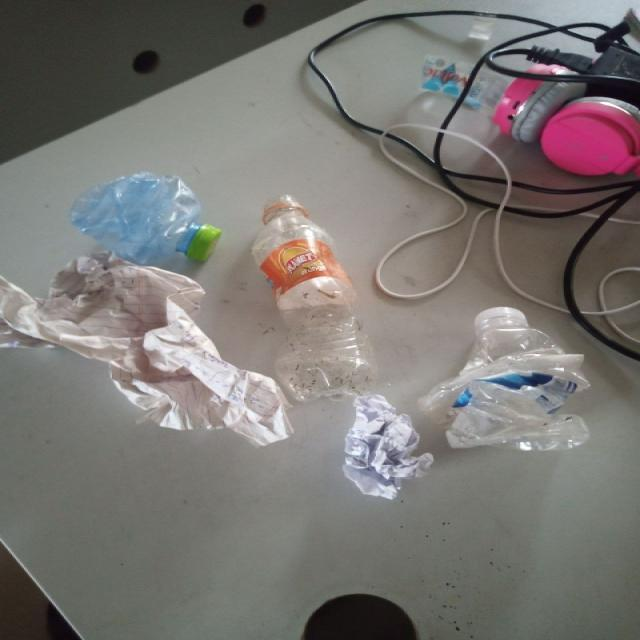Paper: (0, 250, 300, 453), (338, 395, 436, 502)
Plastic: (417, 307, 591, 452), (251, 196, 373, 401), (69, 172, 223, 266)
